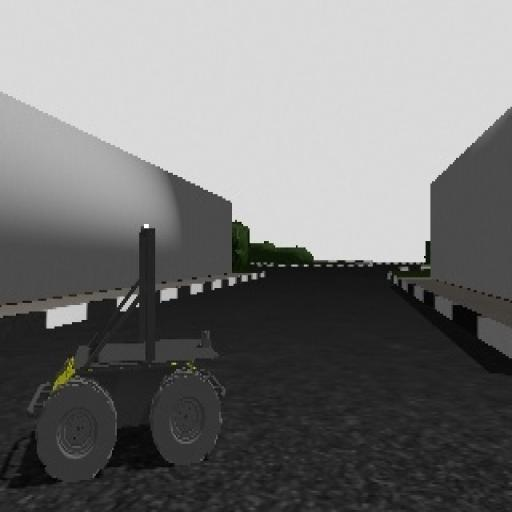huskya200: (21, 219, 248, 481)
